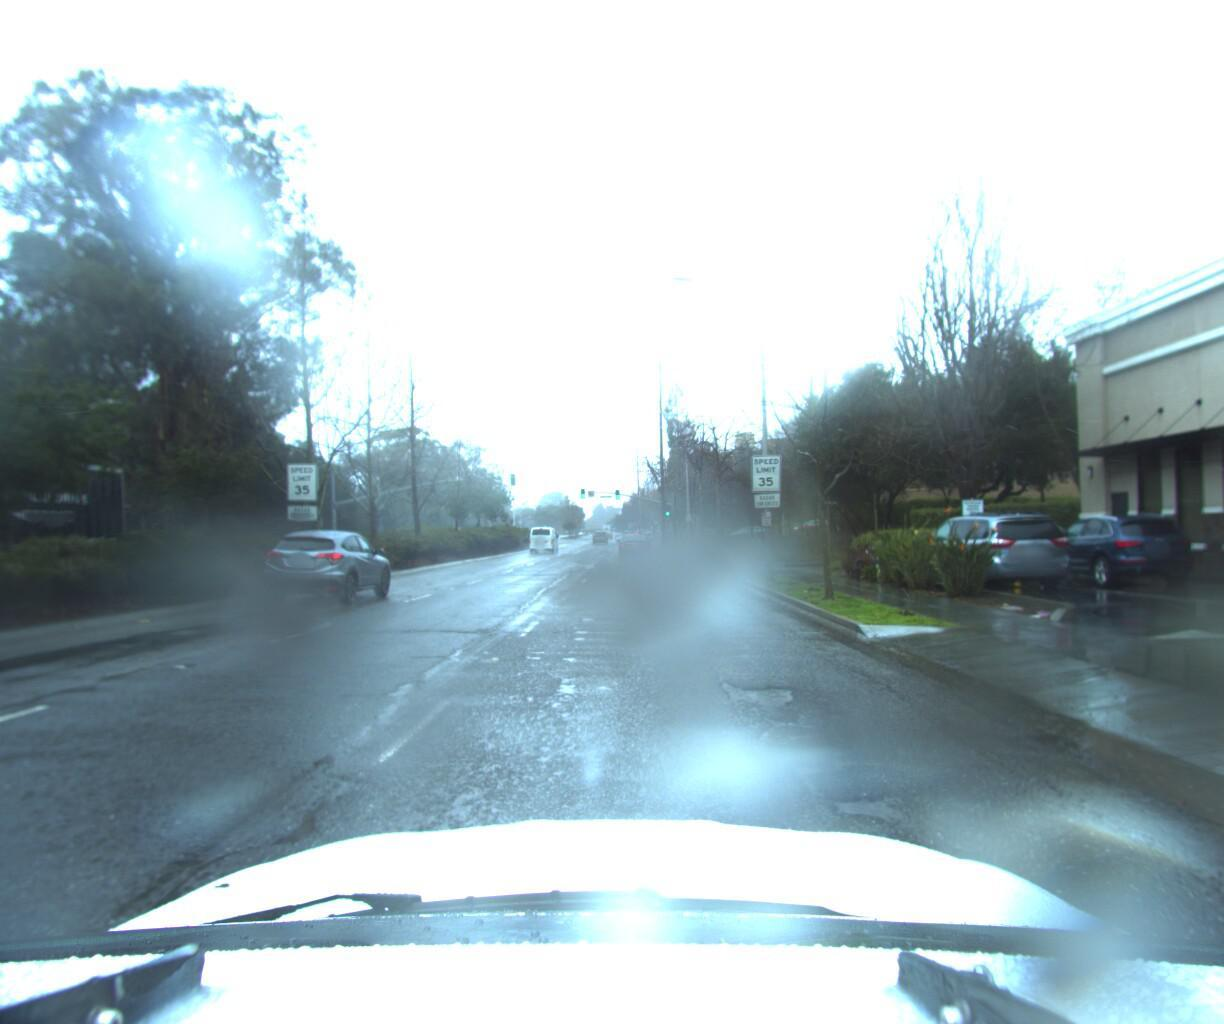car: (905, 501, 1080, 588), (1029, 505, 1213, 584), (261, 526, 400, 610), (616, 529, 652, 558), (527, 521, 560, 546)
